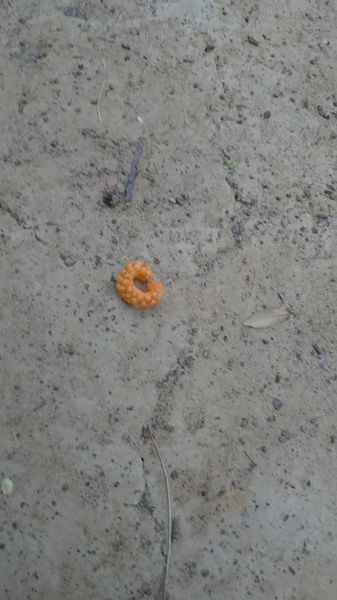eggs: (113, 250, 169, 313)
